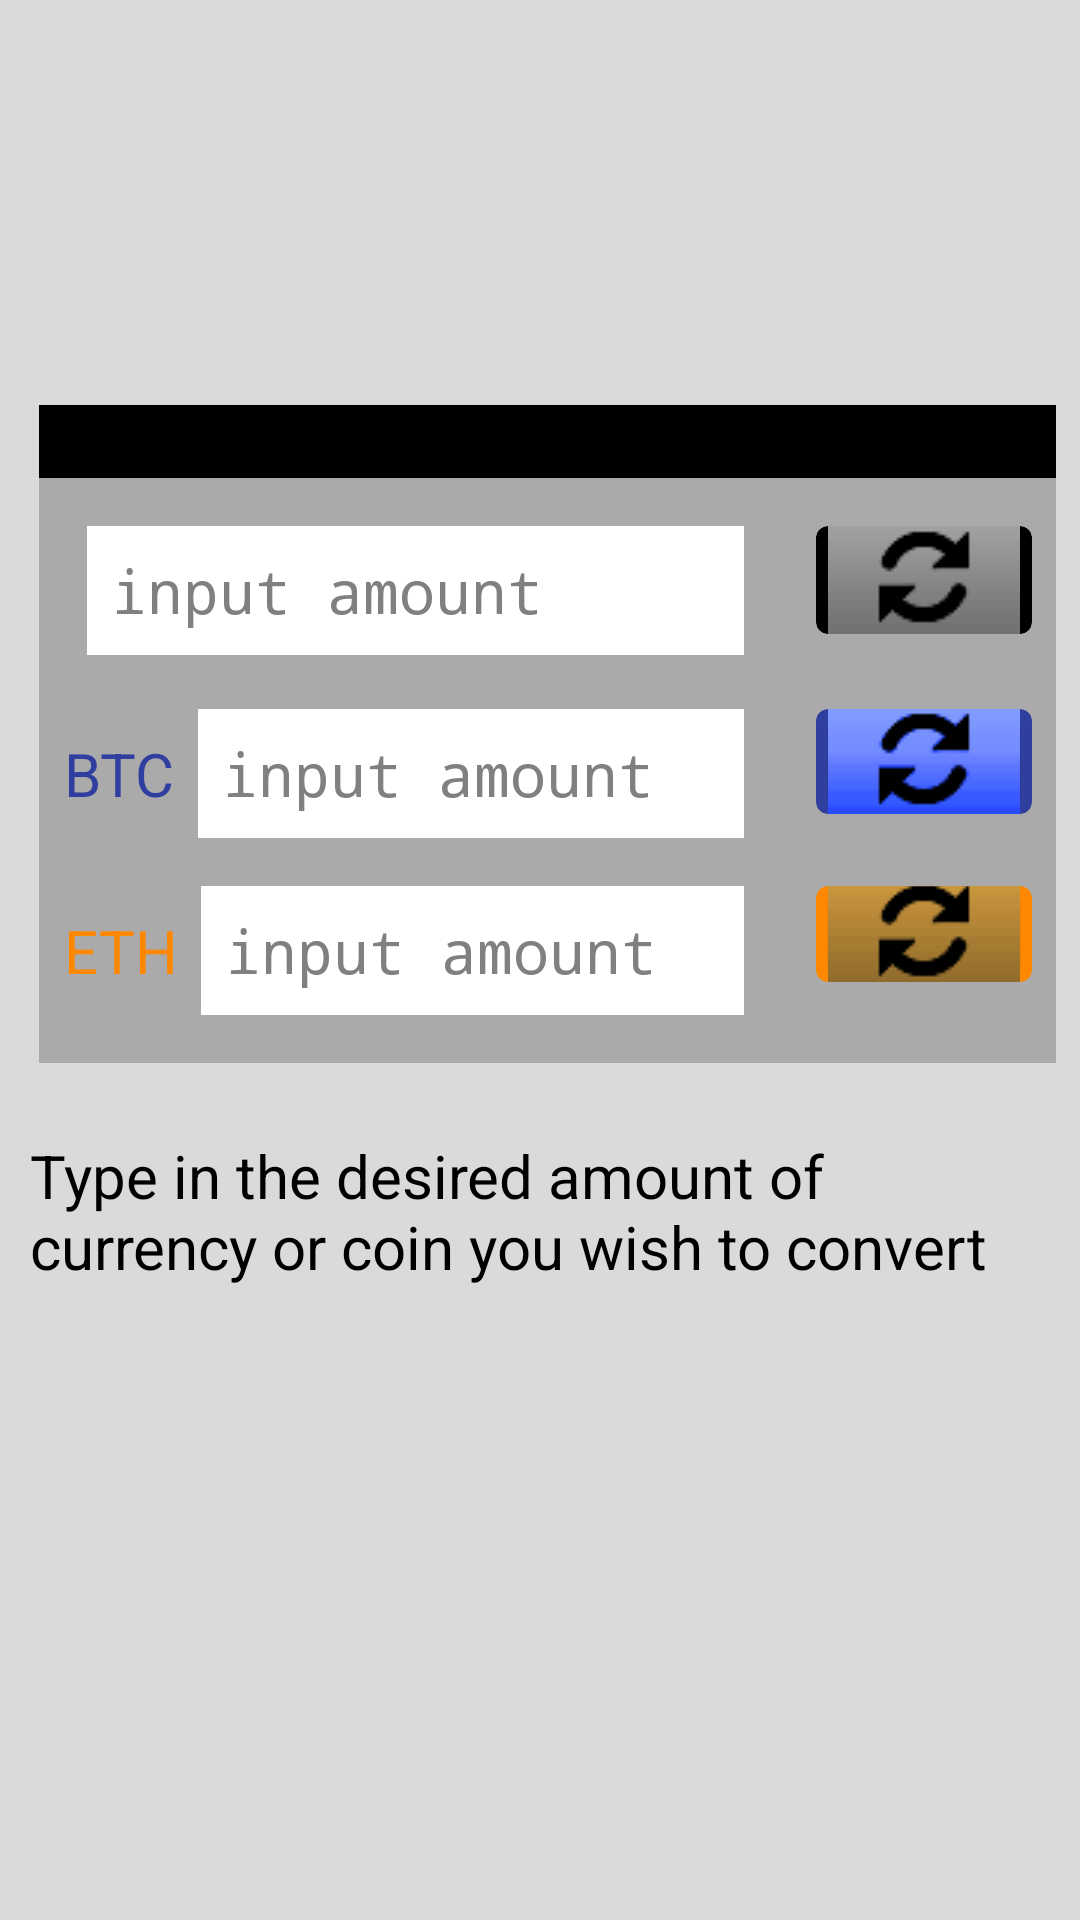

Icon bounding boxes for this 1080 x 1920 phone screenshot, format (x1, y1, x2, y2):
reload: (816, 526, 1032, 634), (816, 709, 1032, 814), (816, 886, 1032, 982)
